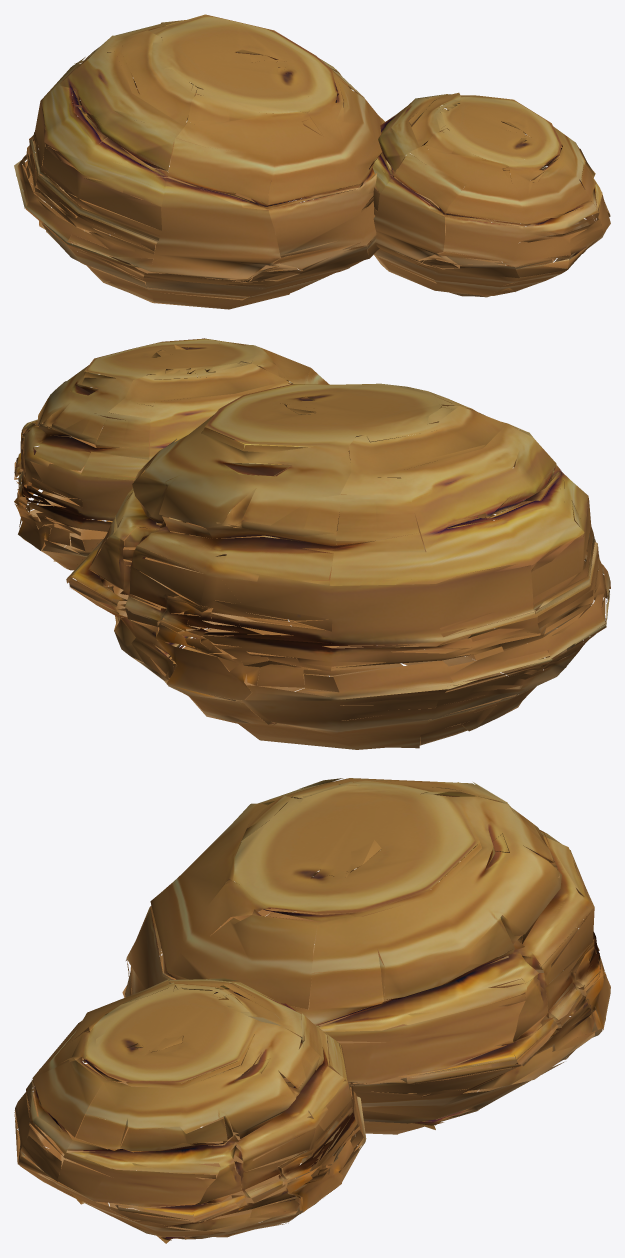
Rendered from desert_boulder_pair.glb.
3 renders of one model, top to bottom at view 1: azimuth 30°, elevation 25°; view 2: azimuth 150°, elevation 25°; view 3: azimuth 270°, elevation 25°, orthographic. The views are drawn at different scales.
Visible parts, largest first — view 1: desert_boulder_pair; view 2: desert_boulder_pair; view 3: desert_boulder_pair.
Part boxes in pixels (x1=…): desert_boulder_pair: x1=14, y1=14, x2=610, y2=309; desert_boulder_pair: x1=14, y1=338, x2=610, y2=749; desert_boulder_pair: x1=14, y1=778, x2=610, y2=1243.
Bounding box in the file's own units: 2.08 × 0.936 × 1.74.
1 material, 1 textured.
